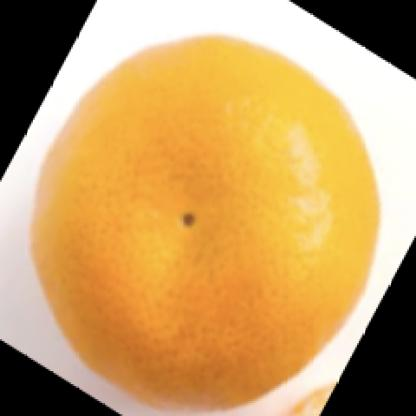fresh: (34, 37, 383, 413)
